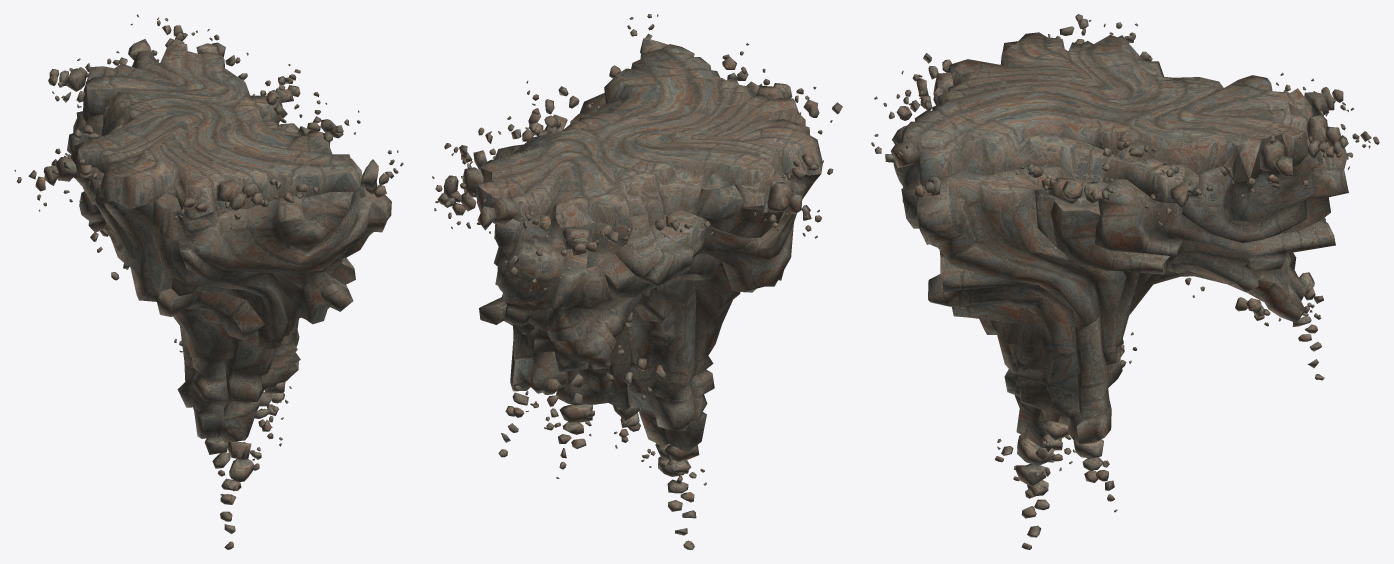
Rendered from bg_rad_kamen_rockfloor01alowpoly_sm.obj.
3 views of the same model, side by side, from view 1: azimuth 30°, elevation 25°; view 2: azimuth 150°, elevation 25°; view 3: azimuth 270°, elevation 25° (orthographic). The views are drawn at different scales.
Visible parts, largest first — view 1: bg_rad_kamen_rockfloor01alowpoly_sm_1, bg_rad_kamen_rockfloor01alowpoly_sm_0, bg_rad_kamen_rockfloor01alowpoly_sm_2; view 2: bg_rad_kamen_rockfloor01alowpoly_sm_1, bg_rad_kamen_rockfloor01alowpoly_sm_0, bg_rad_kamen_rockfloor01alowpoly_sm_2; view 3: bg_rad_kamen_rockfloor01alowpoly_sm_0, bg_rad_kamen_rockfloor01alowpoly_sm_2, bg_rad_kamen_rockfloor01alowpoly_sm_1.
Part boxes in pixels (bbox=[...]): bg_rad_kamen_rockfloor01alowpoly_sm_1: bbox=[67, 79, 371, 442]; bg_rad_kamen_rockfloor01alowpoly_sm_0: bbox=[70, 43, 391, 390]; bg_rad_kamen_rockfloor01alowpoly_sm_2: bbox=[14, 14, 403, 549]; bg_rad_kamen_rockfloor01alowpoly_sm_1: bbox=[494, 170, 820, 452]; bg_rad_kamen_rockfloor01alowpoly_sm_0: bbox=[475, 44, 822, 391]; bg_rad_kamen_rockfloor01alowpoly_sm_2: bbox=[432, 14, 842, 549]; bg_rad_kamen_rockfloor01alowpoly_sm_0: bbox=[901, 32, 1335, 442]; bg_rad_kamen_rockfloor01alowpoly_sm_2: bbox=[871, 14, 1379, 549]; bg_rad_kamen_rockfloor01alowpoly_sm_1: bbox=[892, 60, 1348, 451].
Size of the model in its own units: 4.41 by 5.43 by 5.3.
3 materials, 3 textured.
